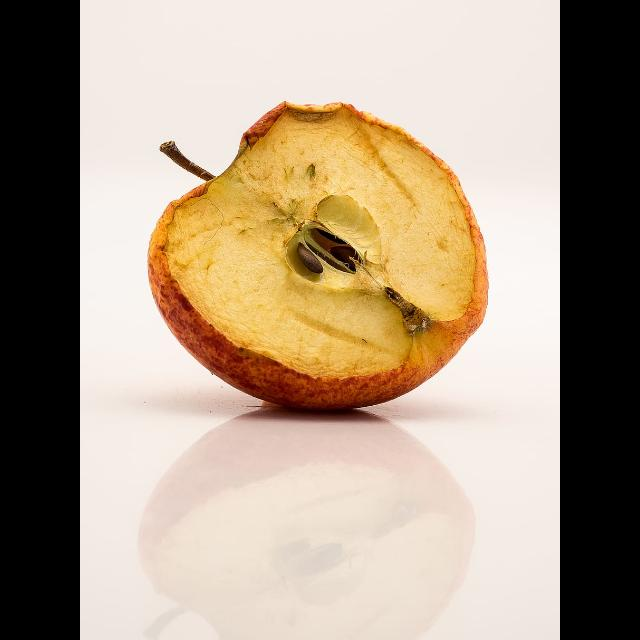Apel Tidak Segar: (125, 81, 517, 438)
